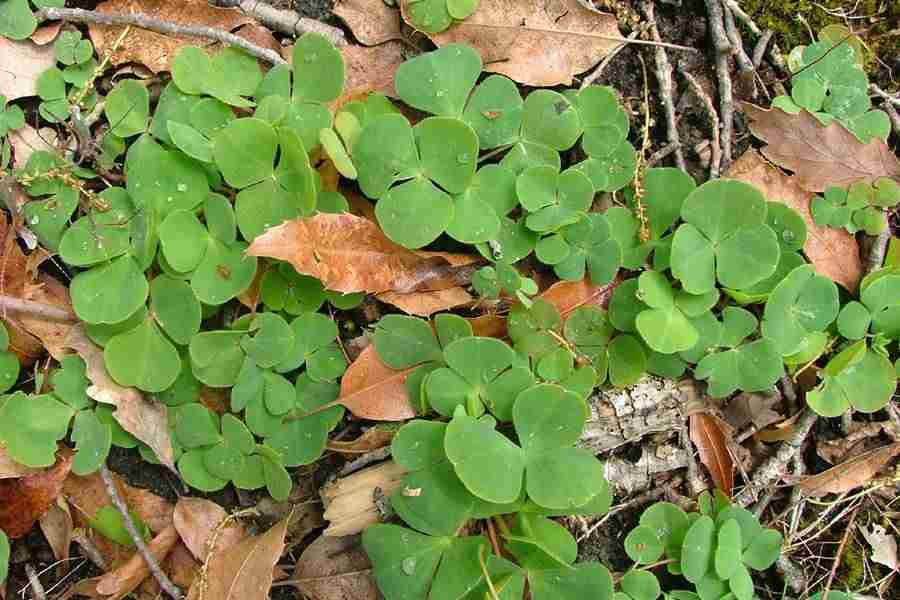oxalis: (72, 77, 844, 576)
